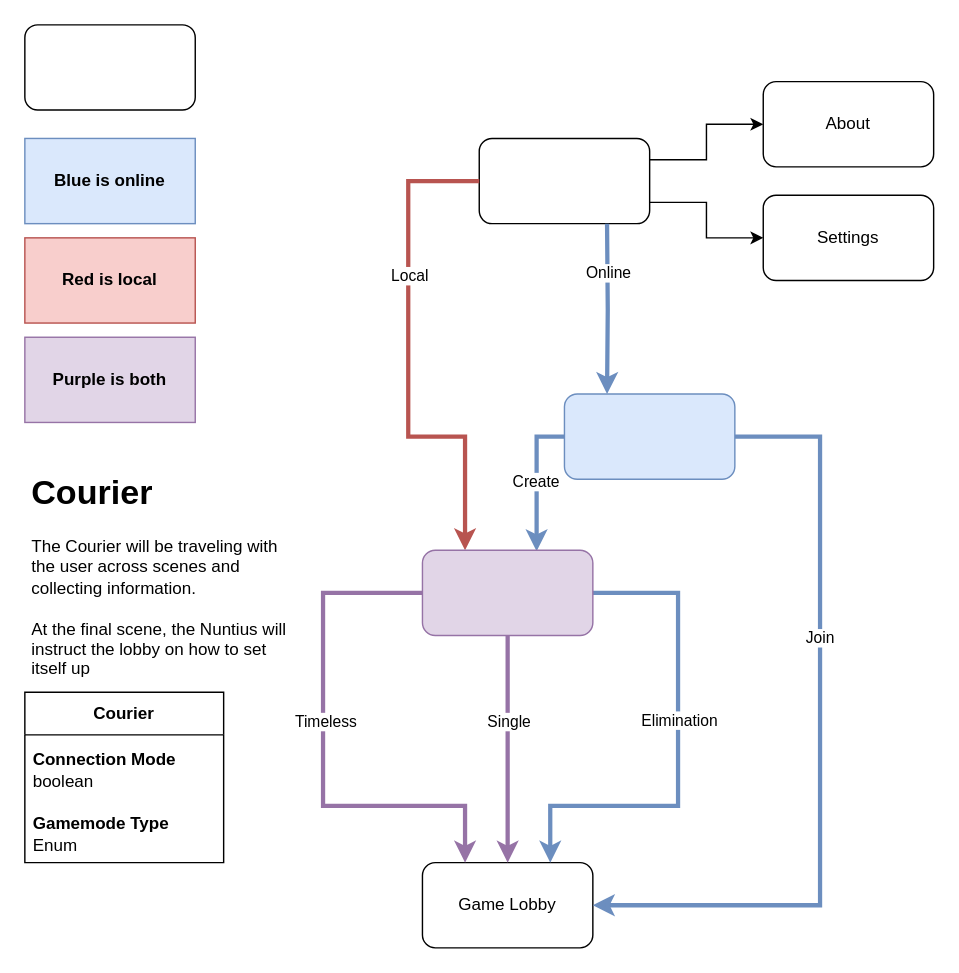
Image size: 959x973. Some labels were removed from this diagram. The centre of each missing label's shape, as x and y in pixels:
Create or Join: (x=649, y=436)
Create Room Room creation scene with game mode options: (x=507, y=592)
Main Menu: (x=564, y=180)
Rounded rectangles are scenes: (x=109, y=66)
